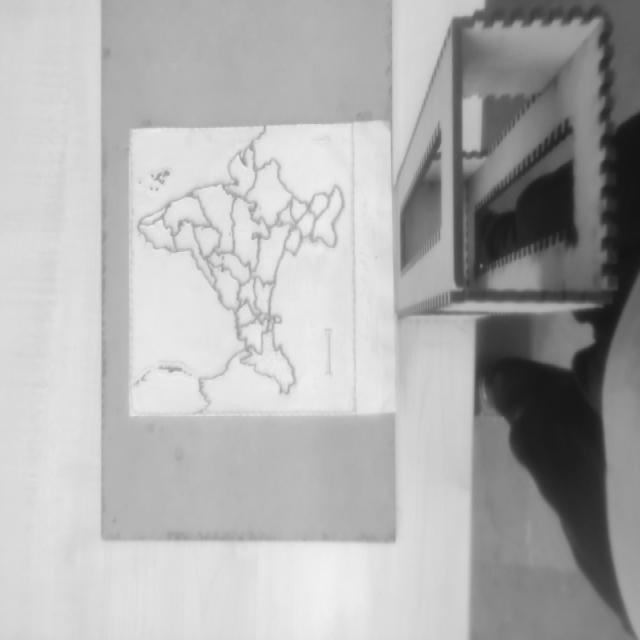map: (128, 123, 356, 415)
